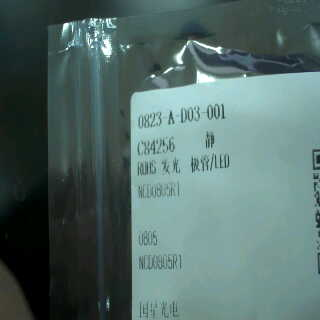LED: (161, 149, 235, 180)
